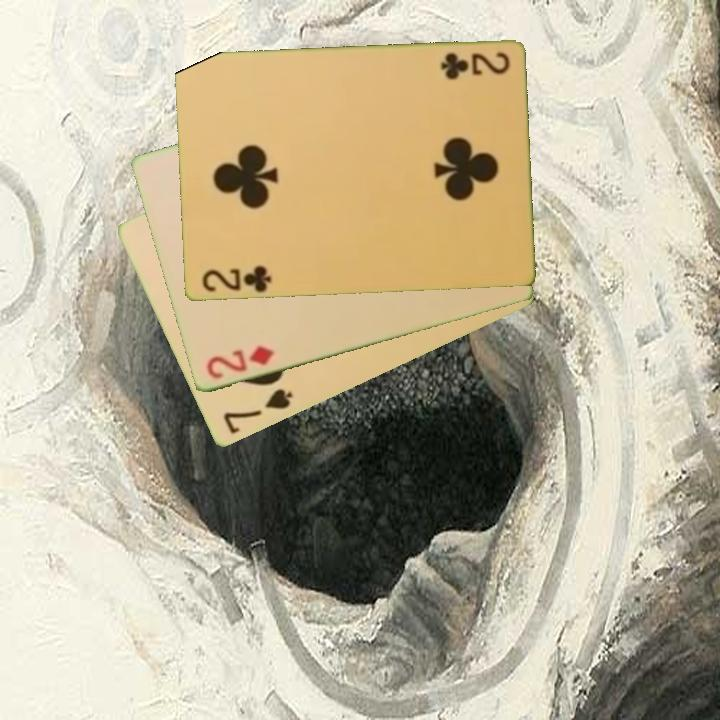2c: (198, 263, 274, 295), (437, 49, 512, 80)
2d: (202, 342, 277, 383)
7s: (219, 385, 296, 438)
